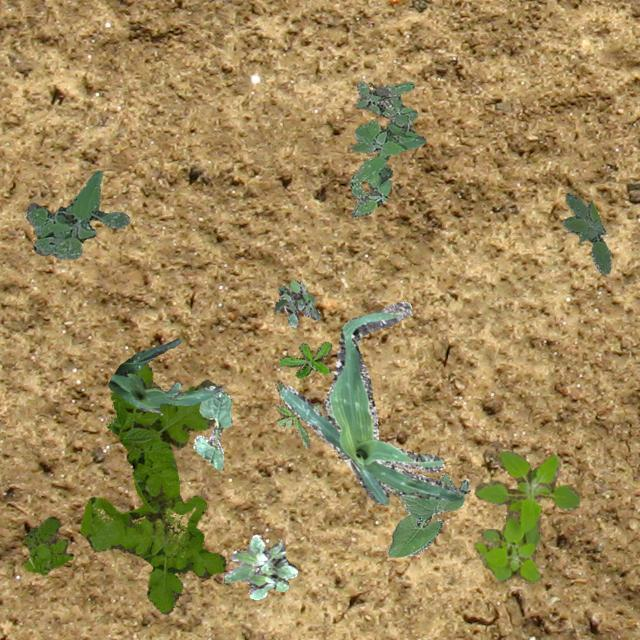crop: (279, 301, 466, 504), (108, 338, 222, 412), (387, 472, 468, 556), (192, 384, 232, 470)
weed: (80, 362, 224, 614), (472, 449, 580, 584), (348, 80, 424, 218), (23, 170, 128, 258), (224, 534, 296, 598), (562, 192, 610, 274), (274, 380, 320, 448), (23, 516, 72, 574), (274, 278, 320, 326), (278, 341, 330, 376)
